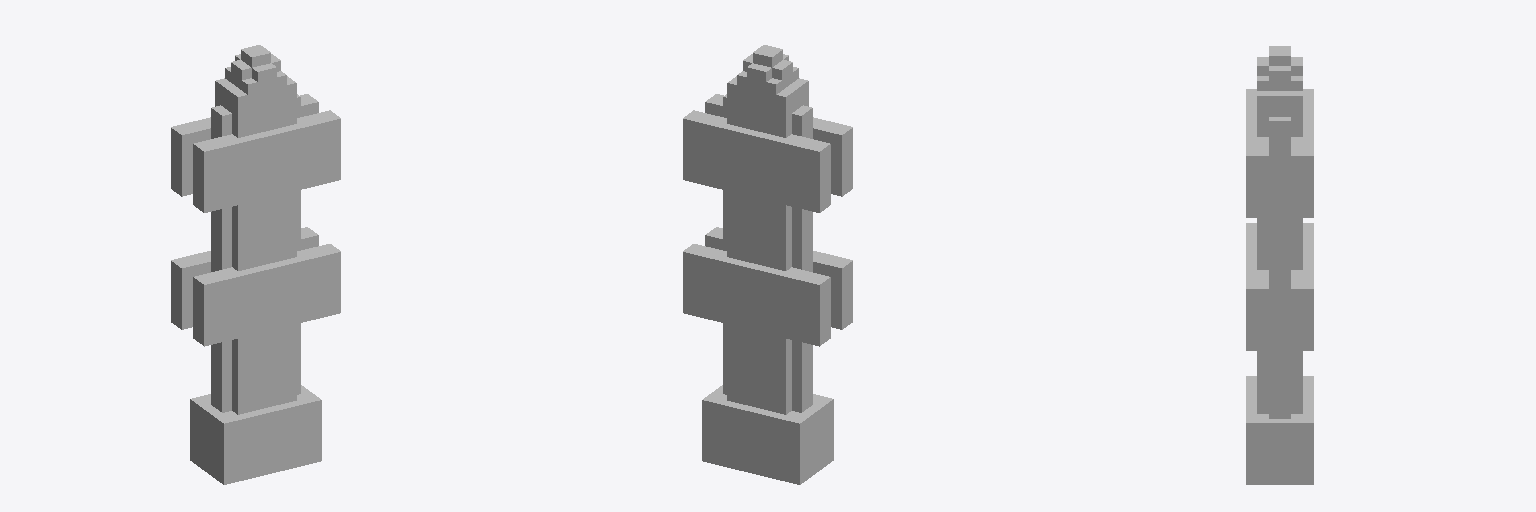
File: zabor.obj
3 renders of one model, left to right at view 1: azimuth 30°, elevation 25°; view 2: azimuth 150°, elevation 25°; view 3: azimuth 270°, elevation 25°, orthographic.
Visible parts, largest first — view 1: object 1; view 2: object 1; view 3: object 1.
Boxes of the visible parts, x1=… form: object 1: x1=171, y1=45, x2=340, y2=484; object 1: x1=683, y1=45, x2=852, y2=484; object 1: x1=1246, y1=46, x2=1313, y2=484.
Bounding box in the file's own units: 1.4 × 4 × 0.6.